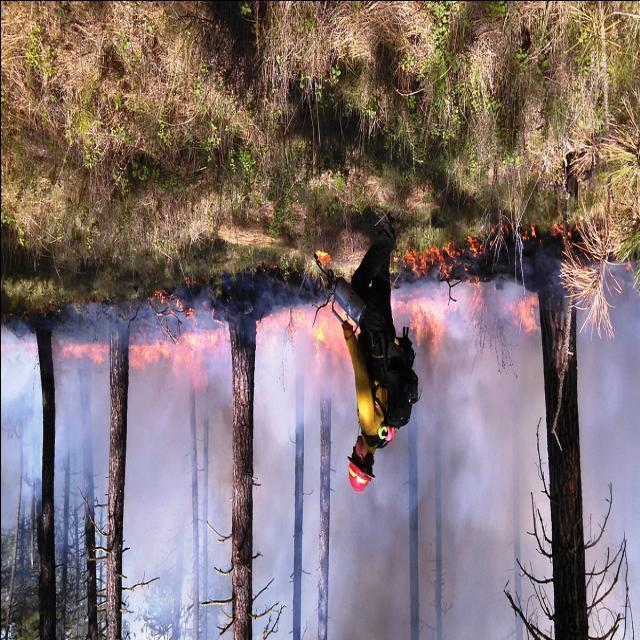Fire: (127, 331, 223, 378), (392, 288, 462, 348), (302, 304, 348, 361)
